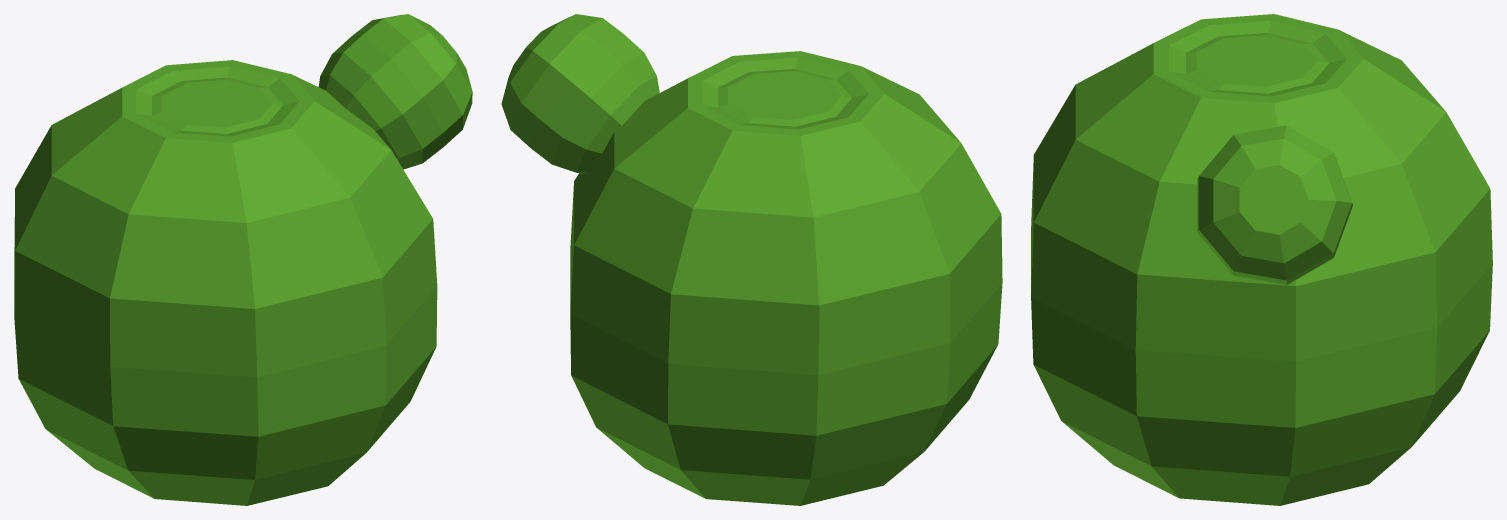
File: Cactus.fbx
The picture shows the model from 3 angles, left to right: view 1: azimuth 30°, elevation 25°; view 2: azimuth 150°, elevation 25°; view 3: azimuth 270°, elevation 25°; orthographic projection. The views are drawn at different scales.
Parts seen in each view (by area): view 1: Cactus; view 2: Cactus; view 3: Cactus.
Part boxes in pixels (left/top/right/bottom): Cactus: left=14, top=14, right=472, bottom=505; Cactus: left=501, top=14, right=1002, bottom=505; Cactus: left=1031, top=14, right=1492, bottom=505.
Bounding box in the file's own units: 309 × 255 × 260.
